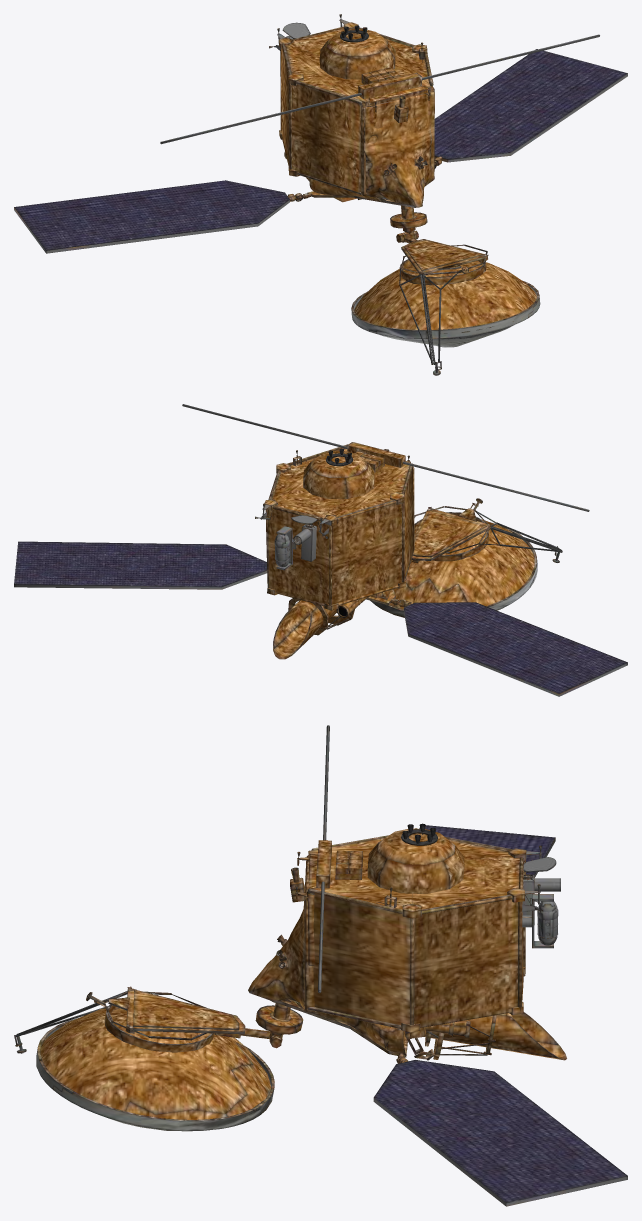
Rendered from корабль-орбитер.glb.
The picture shows the model from 3 angles, top to bottom: view 1: azimuth 30°, elevation 25°; view 2: azimuth 150°, elevation 25°; view 3: azimuth 270°, elevation 25°; orthographic projection. The views are drawn at different scales.
Visible parts, largest first — view 1: mro_proxy7, mro_proxy6, mro_proxy5; view 2: mro_proxy7, mro_proxy6, mro_proxy3, mro_proxy5; view 3: mro_proxy7, mro_proxy6, mro_proxy3, mro_proxy5, mro_proxy2.
Boxes of the visible parts, left/top/right/bottom form: mro_proxy7: left=14, top=27, right=627, bottom=375; mro_proxy6: left=269, top=14, right=433, bottom=122; mro_proxy5: left=279, top=22, right=436, bottom=207; mro_proxy7: left=14, top=404, right=627, bottom=696; mro_proxy6: left=259, top=442, right=412, bottom=561; mro_proxy3: left=273, top=598, right=401, bottom=659; mro_proxy5: left=267, top=454, right=414, bottom=617; mro_proxy7: left=14, top=725, right=627, bottom=1206; mro_proxy6: left=290, top=823, right=550, bottom=938; mro_proxy3: left=270, top=1000, right=566, bottom=1060; mro_proxy5: left=249, top=836, right=560, bottom=1063; mro_proxy2: left=405, top=1026, right=495, bottom=1060.
Size of the model in its own units: 2.3 by 0.8399 by 1.56.
2 materials, 2 textured.
